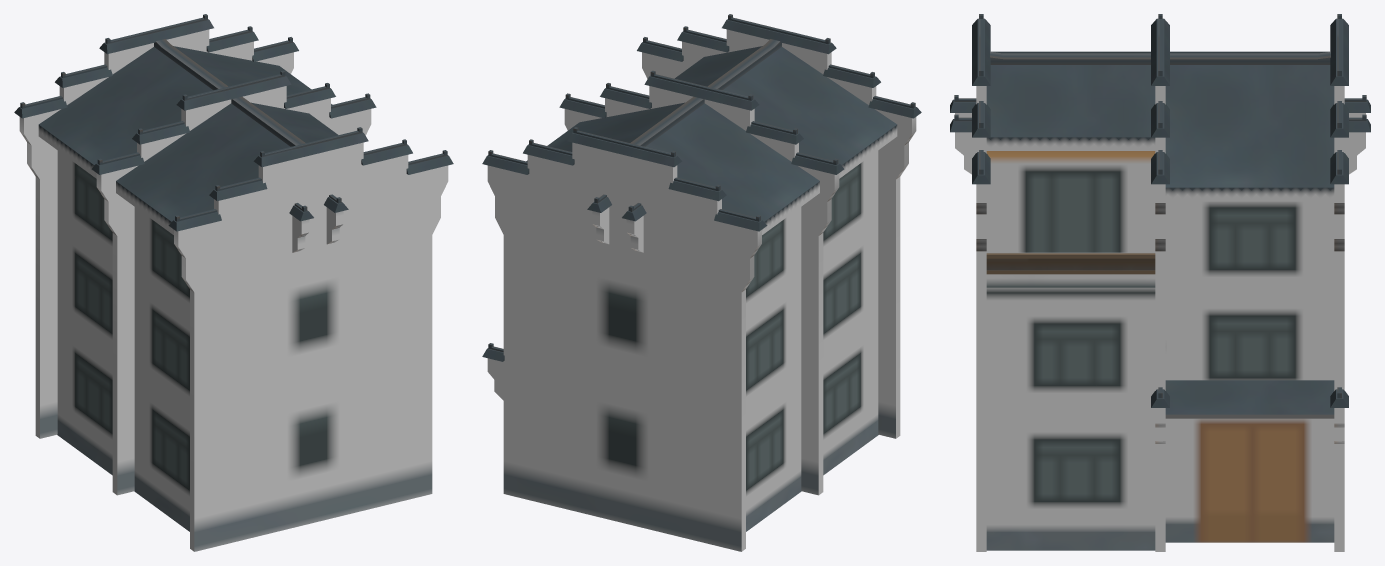
Rendered from Hui_Building_Residential_L3_01_Mod.fbx.
3 renders of one model, left to right at view 1: azimuth 30°, elevation 25°; view 2: azimuth 150°, elevation 25°; view 3: azimuth 270°, elevation 25°, orthographic. The views are drawn at different scales.
Parts seen in each view (by area): view 1: Hui_Building_Residential_WallR_L3_03_Mod, Hui_Building_Residential_L3_01_Mod, Hui_Building_Residential_WallR_L3_01_Mod, Hui_Building_Residential_WallA_L3_01_Mod; view 2: Hui_Building_Residential_WallR_L3_01_Mod, Hui_Building_Residential_L3_01_Mod, Hui_Building_Residential_WallR_L3_03_Mod, Hui_Building_Residential_WallA_L3_02_Mod; view 3: Hui_Building_Residential_L3_01_Mod, Hui_Building_Residential_WallR_L3_01_Mod, Hui_Building_Residential_WallR_L3_03_Mod, Hui_Building_Residential_WallA_L3_02_Mod, Hui_Building_Residential_WallA_L3_01_Mod.
Boxes of the visible parts, x1=… form: Hui_Building_Residential_WallR_L3_03_Mod: x1=168, y1=127, x2=453, y2=551; Hui_Building_Residential_L3_01_Mod: x1=38, y1=39, x2=376, y2=531; Hui_Building_Residential_WallR_L3_01_Mod: x1=14, y1=14, x2=298, y2=438; Hui_Building_Residential_WallA_L3_01_Mod: x1=289, y1=194, x2=348, y2=252; Hui_Building_Residential_WallR_L3_01_Mod: x1=482, y1=127, x2=767, y2=551; Hui_Building_Residential_L3_01_Mod: x1=526, y1=39, x2=897, y2=531; Hui_Building_Residential_WallR_L3_03_Mod: x1=637, y1=14, x2=921, y2=438; Hui_Building_Residential_WallA_L3_02_Mod: x1=587, y1=194, x2=646, y2=252; Hui_Building_Residential_L3_01_Mod: x1=986, y1=14, x2=1334, y2=551; Hui_Building_Residential_WallR_L3_01_Mod: x1=1330, y1=14, x2=1348, y2=551; Hui_Building_Residential_WallR_L3_03_Mod: x1=972, y1=14, x2=990, y2=551; Hui_Building_Residential_WallA_L3_02_Mod: x1=1344, y1=95, x2=1370, y2=174; Hui_Building_Residential_WallA_L3_01_Mod: x1=950, y1=95, x2=976, y2=174.
Size of the model in its own units: 805 by 1060 by 913.
